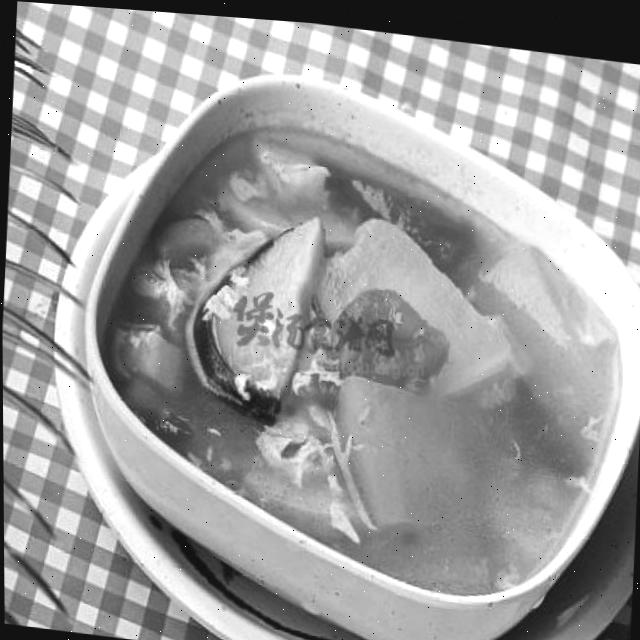汤锅炖物: (56, 21, 640, 640)
